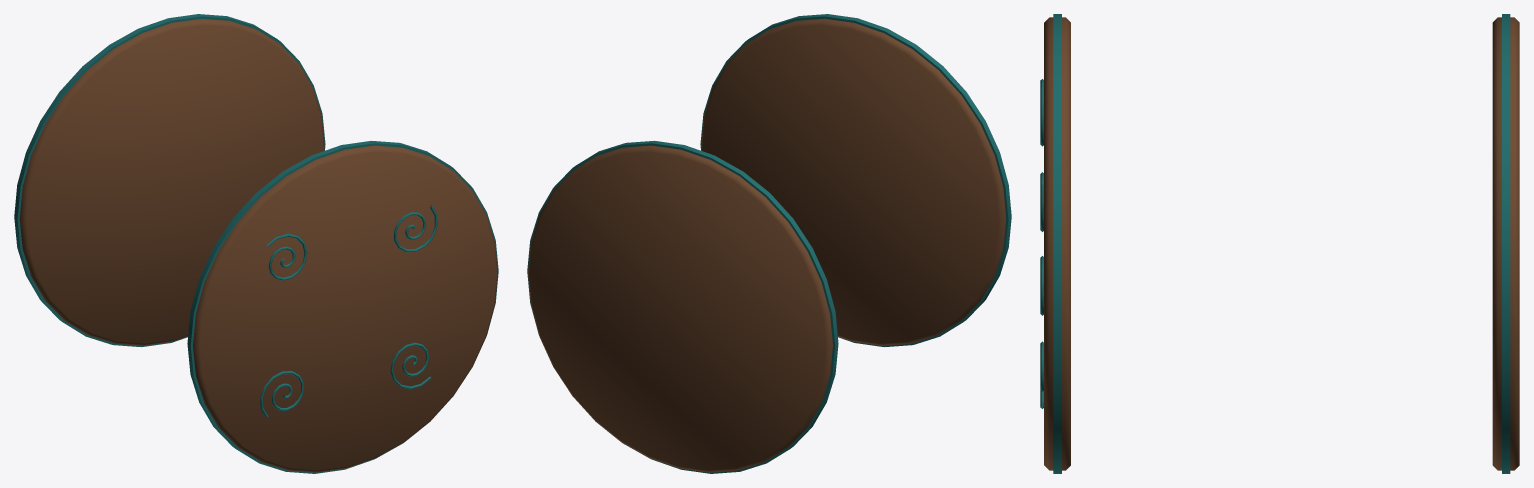
The model's file is k5_discs.obj.
3 views of the same model, side by side, from view 1: azimuth 30°, elevation 25°; view 2: azimuth 150°, elevation 25°; view 3: azimuth 270°, elevation 25° (orthographic). The views are drawn at different scales.
Parts seen in each view (by area): view 1: k5_discs; view 2: k5_discs; view 3: k5_discs.
Part boxes in pixels (x1,y1,x2,y2): k5_discs: (14, 14, 498, 473); k5_discs: (527, 14, 1011, 473); k5_discs: (1040, 14, 1519, 473).
Bounding box in the file's own units: 2.15 × 2.15 × 2.24.
